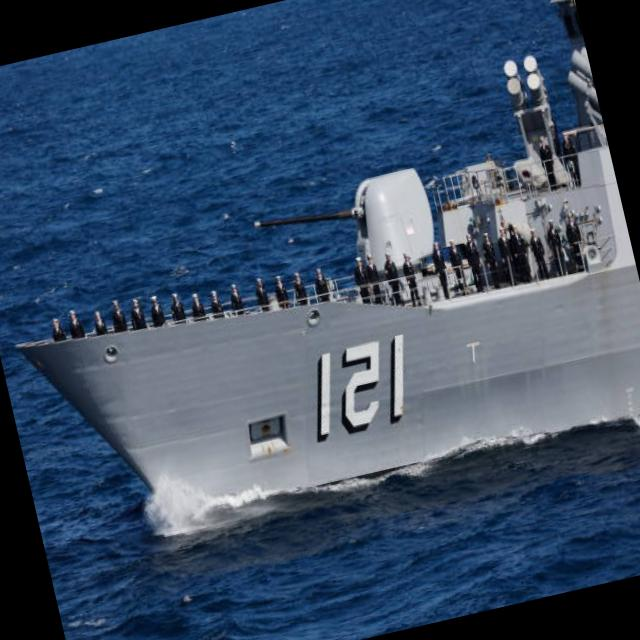Military: (16, 0, 640, 531)
